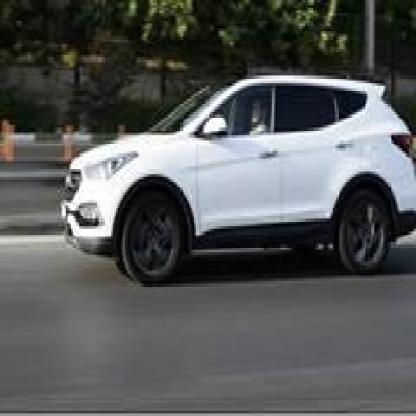Car: (59, 70, 416, 291)
